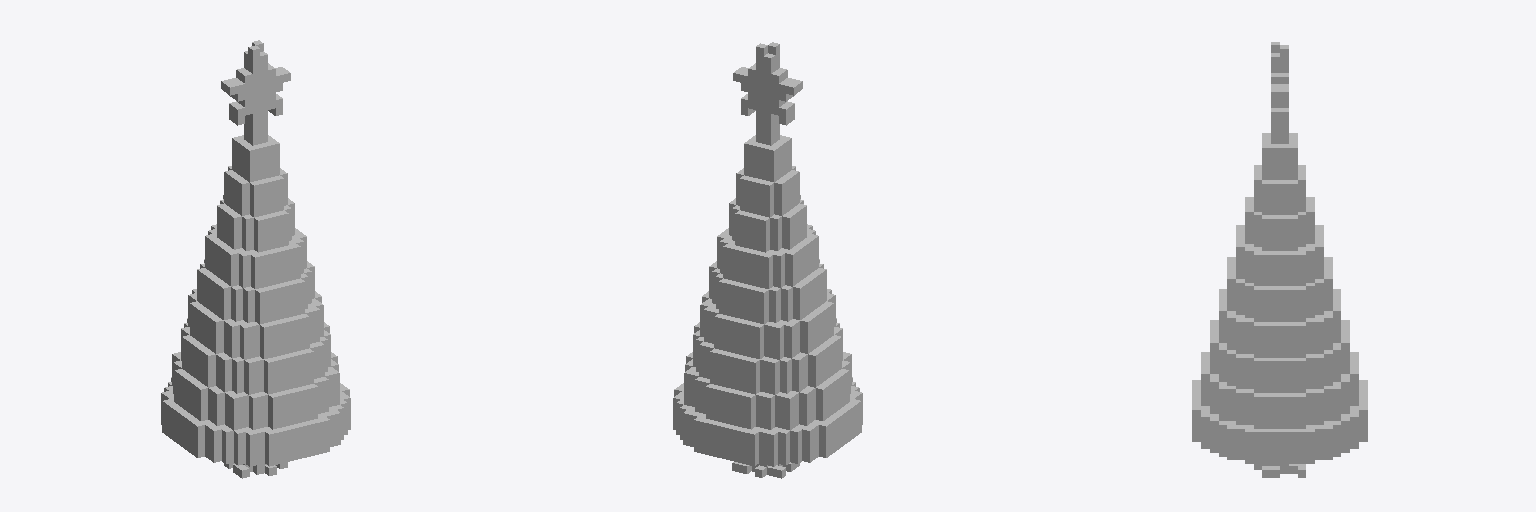
Rendered from ChristmasTree.obj.
3 renders of one model, left to right at view 1: azimuth 30°, elevation 25°; view 2: azimuth 150°, elevation 25°; view 3: azimuth 270°, elevation 25°, orthographic.
Parts seen in each view (by area): view 1: ChristmasTree; view 2: ChristmasTree; view 3: ChristmasTree.
Part boxes in pixels (x1,y1,x2,y2): ChristmasTree: (161,40,350,478); ChristmasTree: (673,42,862,478); ChristmasTree: (1192,42,1367,477).
Bounding box in the file's own units: 20 × 53 × 20.